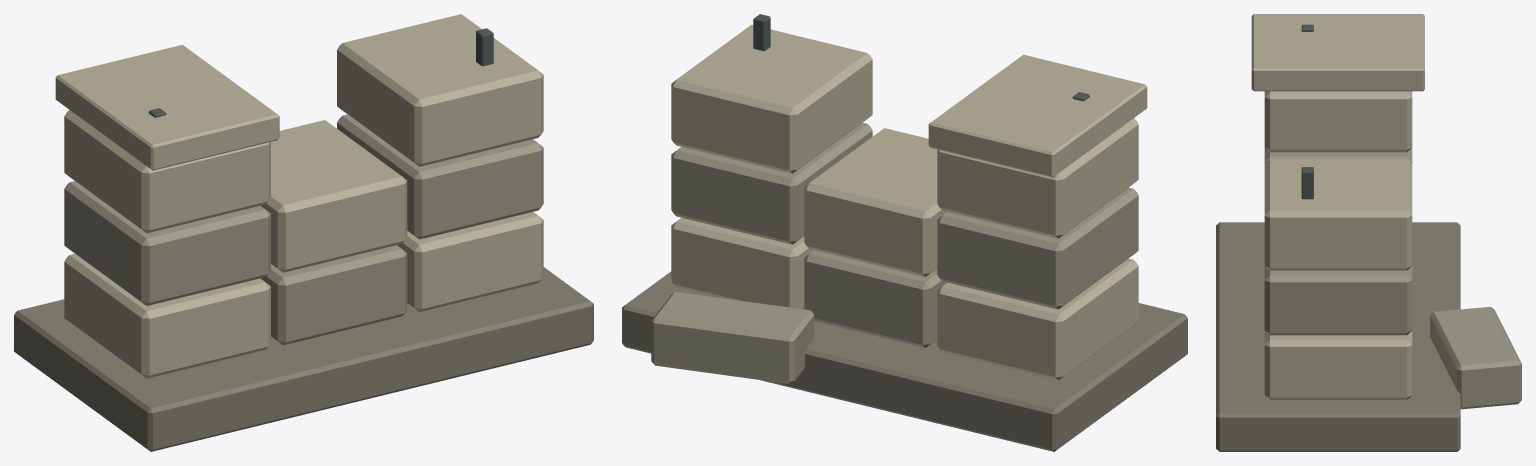
File: warm_ruin_1.glb
3 renders of one model, left to right at view 1: azimuth 30°, elevation 25°; view 2: azimuth 150°, elevation 25°; view 3: azimuth 270°, elevation 25°, orthographic. The views are drawn at different scales.
Visible parts, largest first — view 1: ruin_1_sample_stone_light, ruin_1_sample_stone_dark, ruin_1_sample_stone, ruin_1_sample_iron; view 2: ruin_1_sample_stone_light, ruin_1_sample_stone, ruin_1_sample_stone_dark, ruin_1_sample_iron; view 3: ruin_1_sample_stone_light, ruin_1_sample_stone_dark, ruin_1_sample_stone, ruin_1_sample_iron.
Boxes of the visible parts, x1,y1,x2,y2 form: ruin_1_sample_stone_light: (55, 14, 543, 378); ruin_1_sample_stone_dark: (14, 267, 593, 451); ruin_1_sample_stone: (64, 114, 543, 345); ruin_1_sample_iron: (148, 28, 493, 117); ruin_1_sample_stone_light: (671, 24, 1147, 380); ruin_1_sample_stone: (651, 122, 1138, 383); ruin_1_sample_stone_dark: (622, 271, 1187, 451); ruin_1_sample_iron: (753, 14, 1089, 101); ruin_1_sample_stone_light: (1251, 14, 1424, 399); ruin_1_sample_stone_dark: (1216, 222, 1460, 451); ruin_1_sample_stone: (1264, 148, 1521, 409); ruin_1_sample_iron: (1301, 24, 1313, 199).
Size of the model in its own units: 0.9 by 0.56 by 0.6001.
